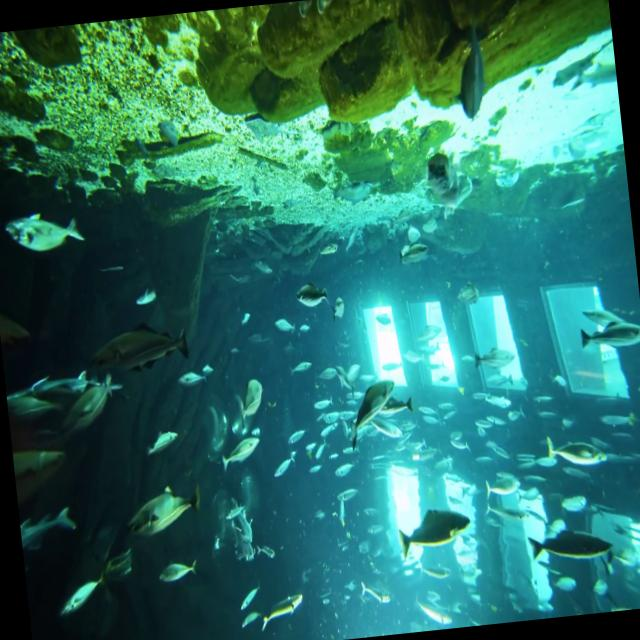fish: (77, 319, 192, 384), (126, 482, 204, 539), (348, 377, 402, 456), (397, 506, 473, 560), (2, 210, 86, 256), (526, 524, 614, 567), (577, 307, 640, 356), (50, 568, 110, 616), (546, 434, 606, 474), (256, 592, 305, 632), (231, 376, 267, 428), (216, 433, 264, 472), (155, 552, 198, 586)
